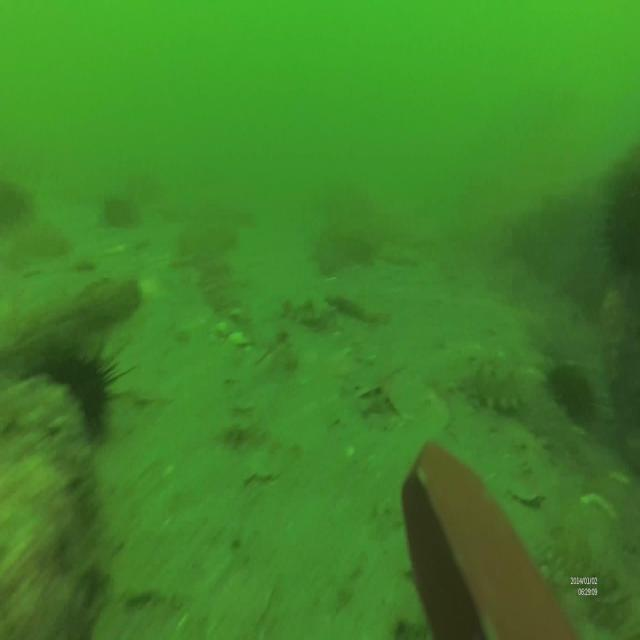echinus: (52, 338, 138, 439), (605, 158, 640, 270), (548, 357, 596, 428)
holothurian: (463, 358, 525, 417)
